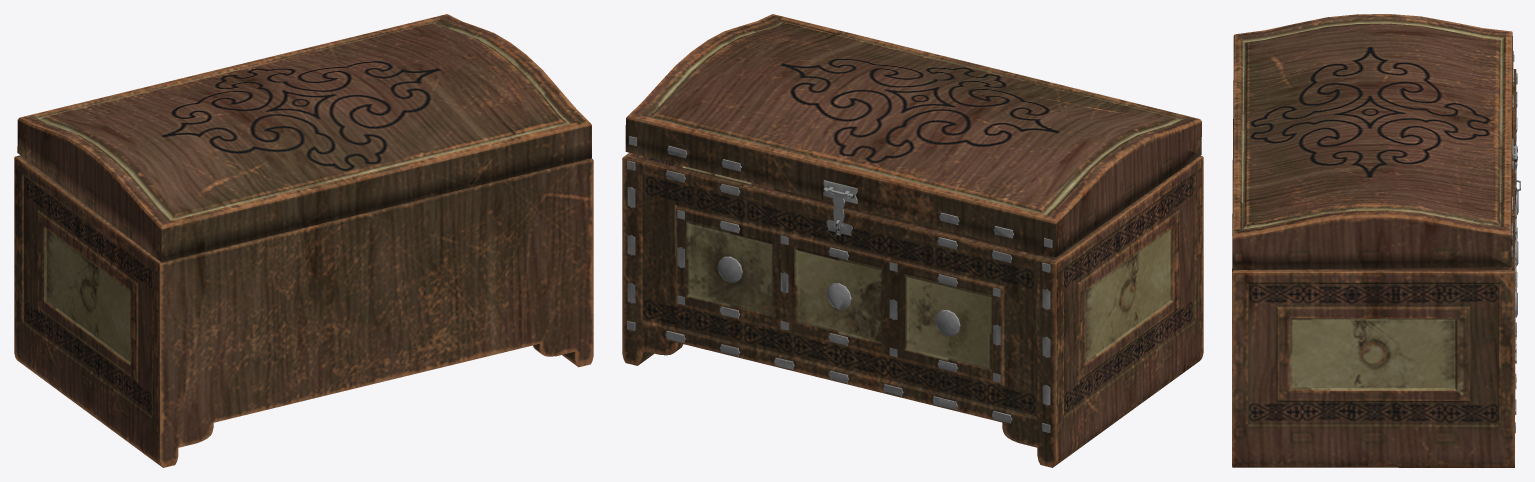
Rendered from sandyk.fbx.
The picture shows the model from 3 angles, left to right: view 1: azimuth 30°, elevation 25°; view 2: azimuth 150°, elevation 25°; view 3: azimuth 270°, elevation 25°; orthographic projection. The views are drawn at different scales.
Parts seen in each view (by area): view 1: Yurtainterior.001, Yurtainterior.005; view 2: Yurtainterior.001, Yurtainterior.005; view 3: Yurtainterior.005, Yurtainterior.001.
Part boxes in pixels (x1,y1,x2,y2): Yurtainterior.001: (14,155,593,467); Yurtainterior.005: (17,14,591,262); Yurtainterior.001: (622,153,1203,467); Yurtainterior.005: (625,14,1201,257); Yurtainterior.005: (1232,14,1520,269); Yurtainterior.001: (1232,69,1518,467).
Size of the model in its own units: 126 by 73.12 by 75.62.
